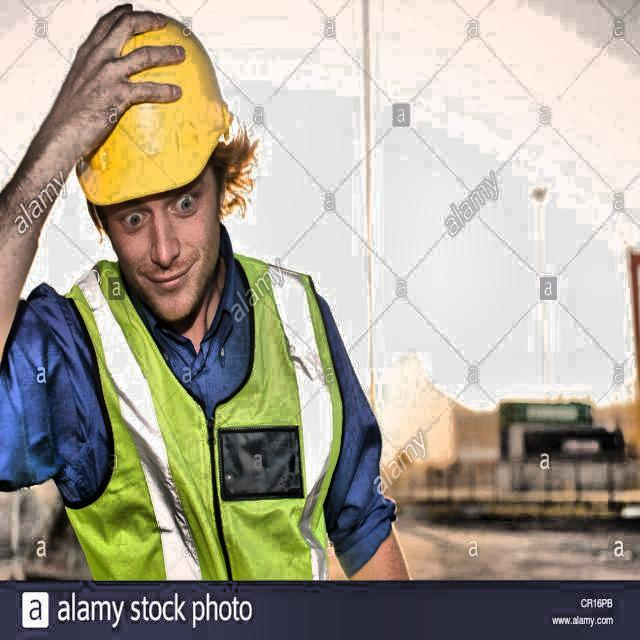person: (0, 12, 406, 578)
